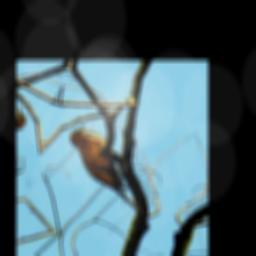Cuckoo: (57, 122, 143, 192)
